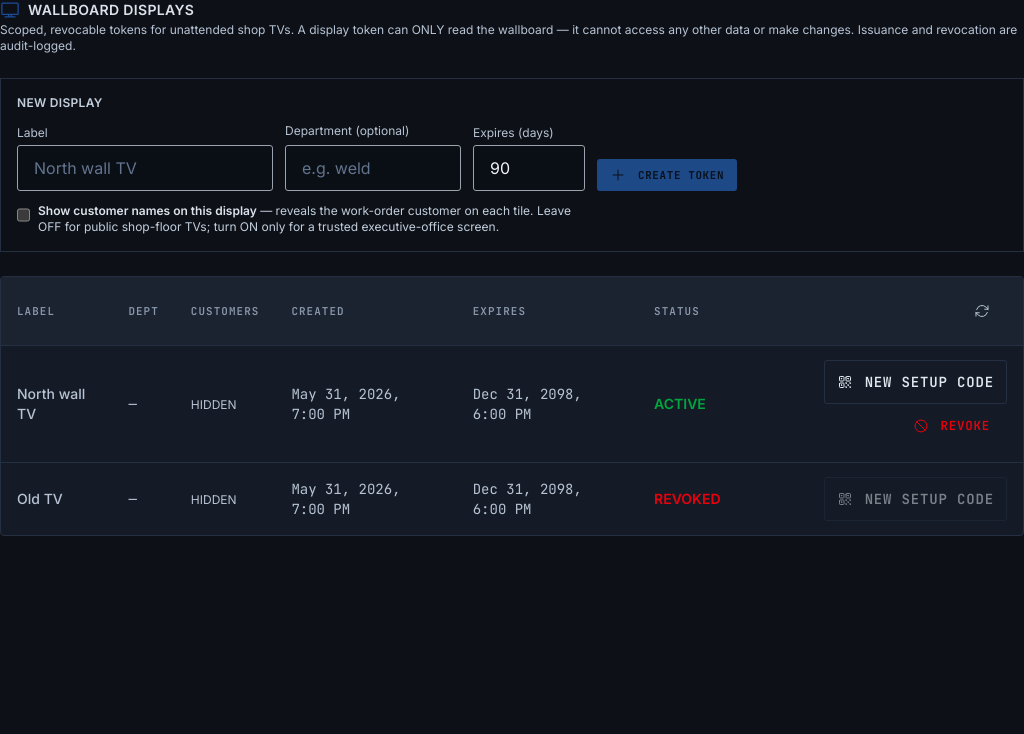
Test case: DisplayTokensTab › creates a token and shows the one-time setup code (primary) + JWT/URL fallback
Expected: the text "North wall TV" is shown, x1=1 y1=346 x2=112 y2=462
Type "Weld bay monitor" into the field with test id "display-token-label" at (145, 168), box x1=17 y1=145 x2=273 y2=191
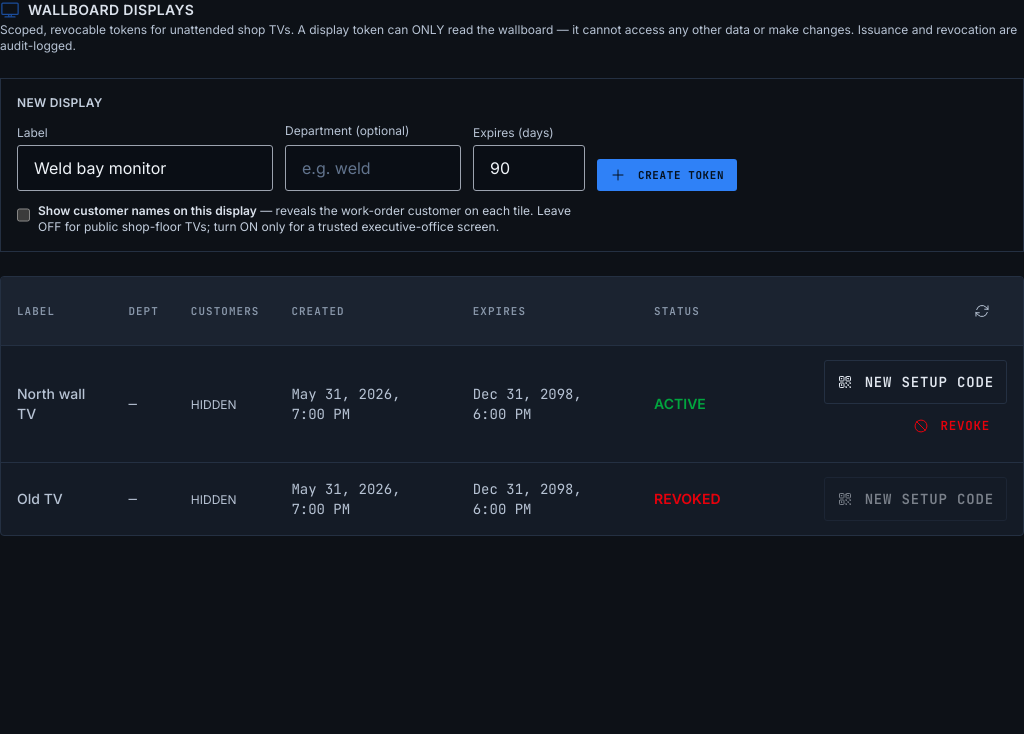
Replace the text in the number field with test id "display-token-days" with "30" at (529, 168), box x1=473 y1=145 x2=585 y2=191
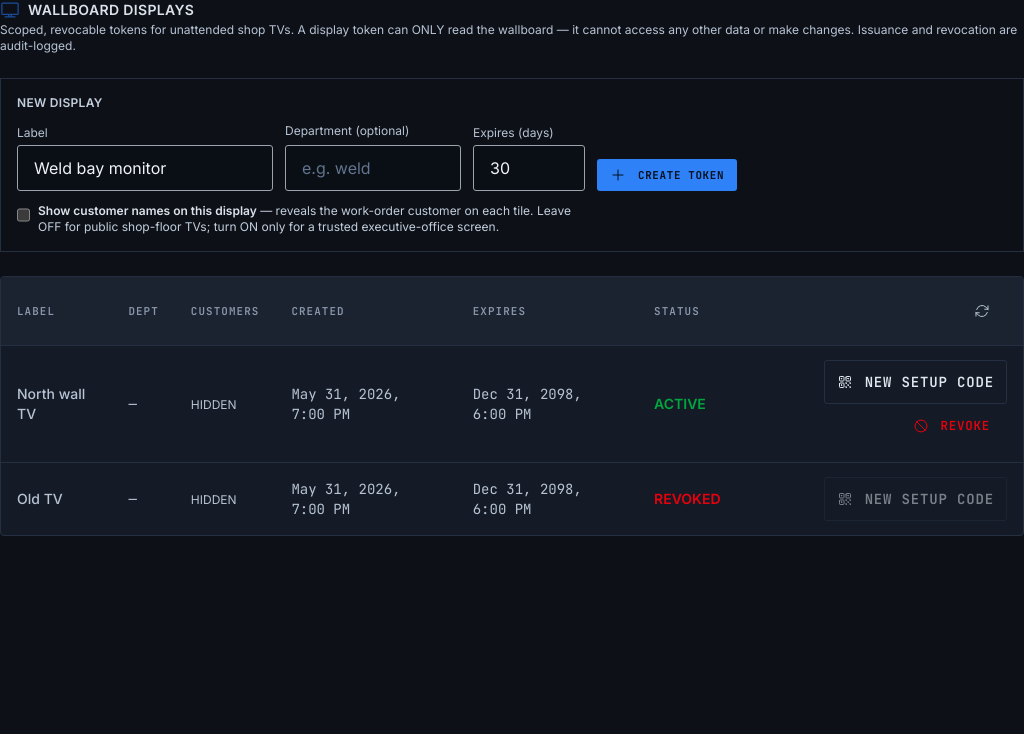
Click the button "Create token" at (667, 175), box x1=597 y1=159 x2=737 y2=191
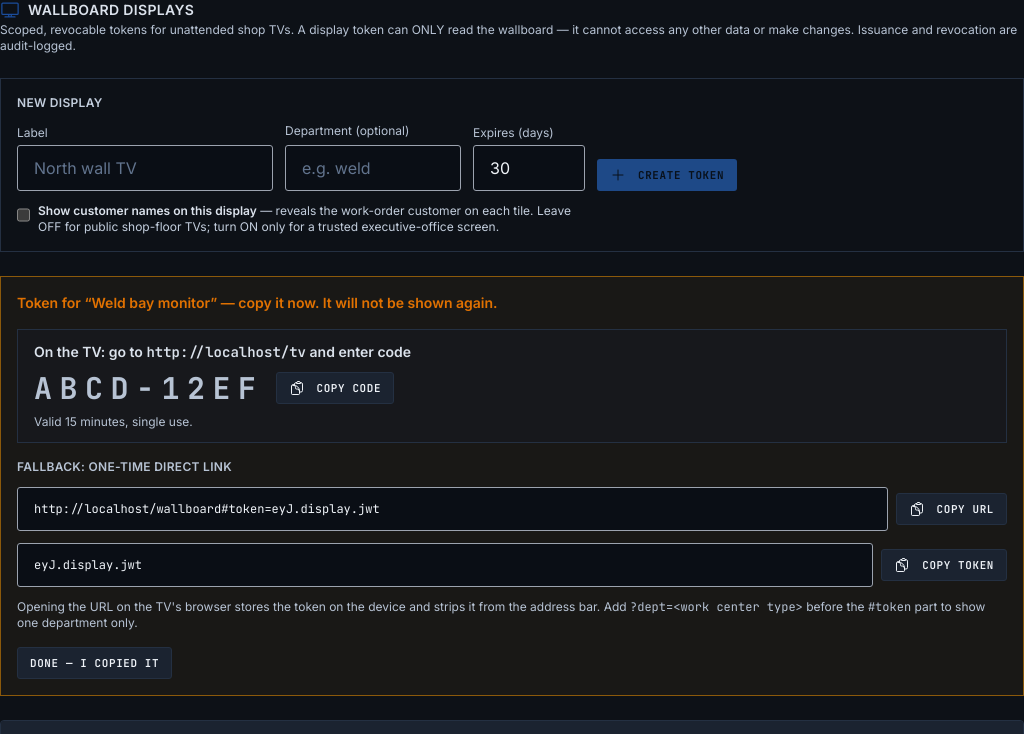
Result: the element with test id "issued-panel" shows "will not be shown again" at x1=210 y1=294 x2=498 y2=311
Result: the element with test id "issued-panel" shows "on the tv" at x1=34 y1=343 x2=146 y2=360
Result: the text with test id "issued-setup-code" reads "ABCD-12EF" at x1=34 y1=368 x2=264 y2=408
